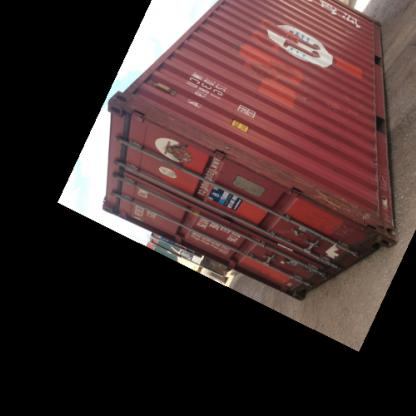Damage: (240, 155, 324, 195), (306, 192, 392, 226), (172, 122, 240, 155), (103, 96, 176, 122), (334, 226, 364, 254), (319, 242, 347, 268)
